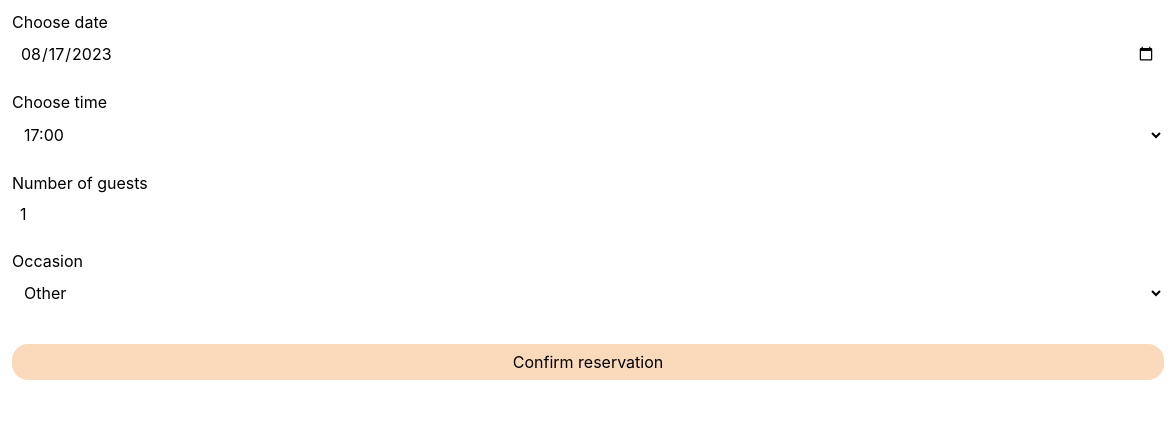
Scenario: Date input errors correctly.
Clear the date field labelled "Choose date" at (588, 54), box x1=12 y1=35 x2=1164 y2=73
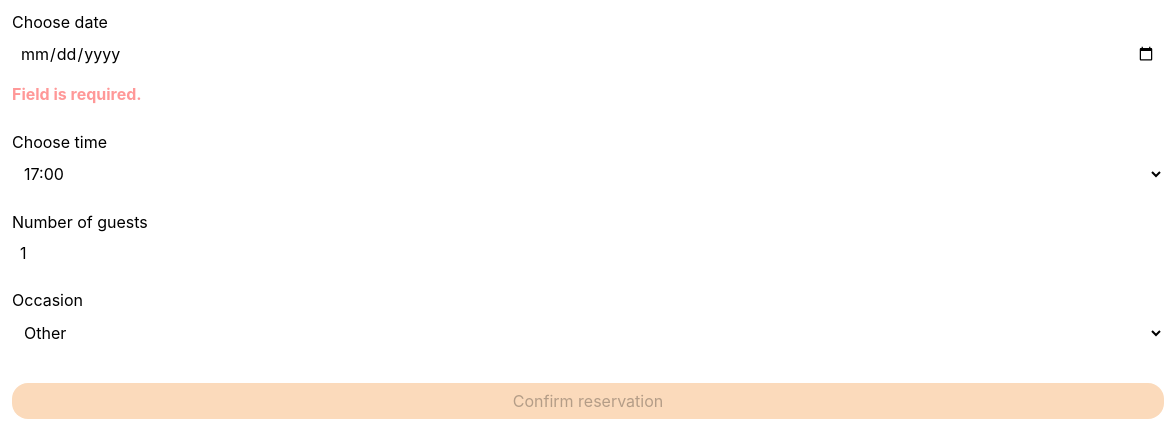
Check: the text "Field is required." is shown, box x1=12 y1=84 x2=142 y2=104
